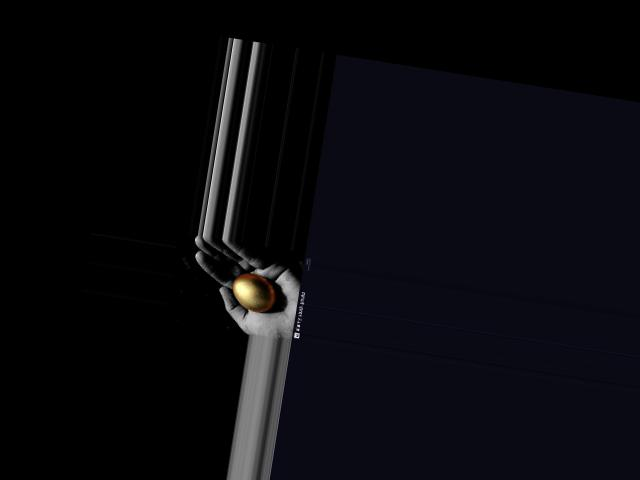egg: (229, 270, 278, 313)
